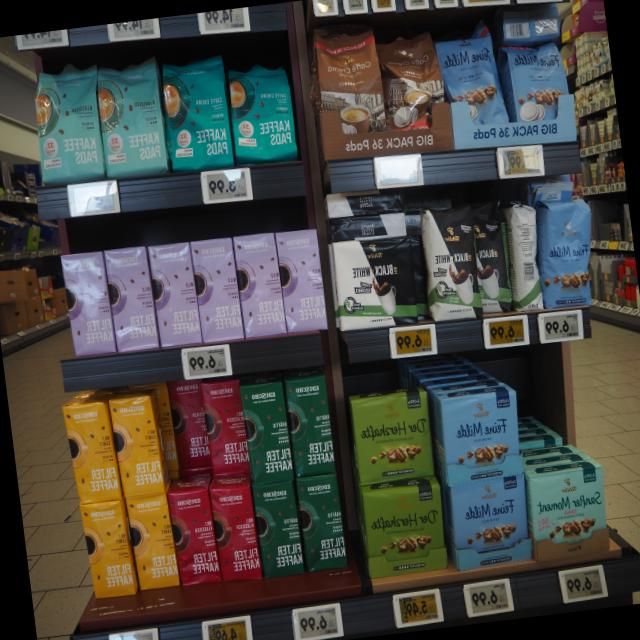BW Bohne: (417, 202, 488, 322), (469, 198, 518, 316)
BW Gemahlen: (328, 232, 423, 336)
CC Vollmundig: (309, 23, 392, 161), (374, 23, 449, 149)
Empty Shelf: (515, 379, 602, 477)
FM 36 Pads: (432, 21, 508, 140), (496, 33, 578, 140)
FM Bohne: (528, 188, 608, 314)
FM Gemahlen: (439, 387, 522, 486)
Herzhatfe Mundig: (357, 478, 453, 574), (347, 386, 438, 486)
SM Gemahlen: (529, 466, 609, 556)
